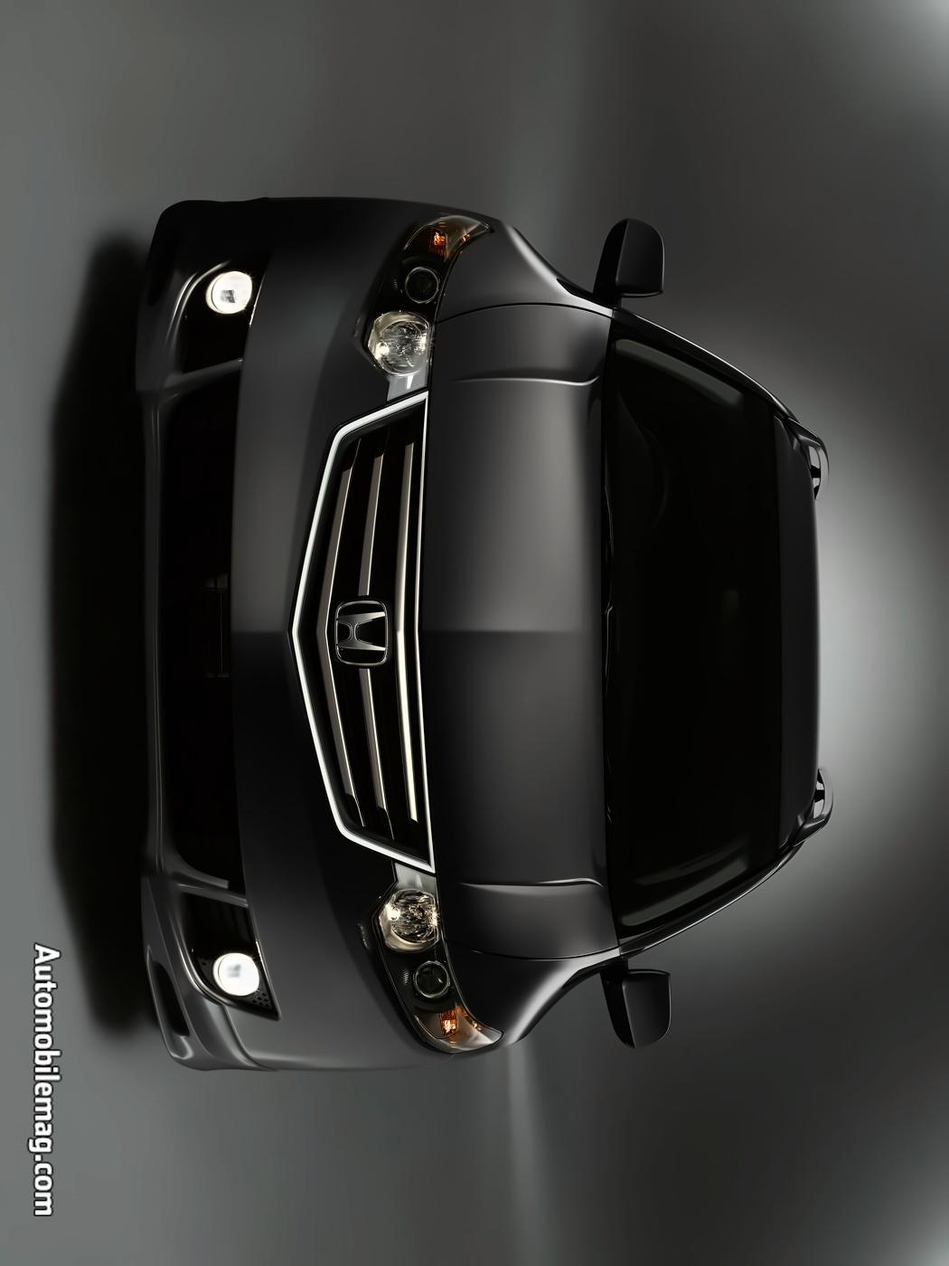Car hood: (415, 221, 632, 1059)
Front bumper: (121, 185, 379, 1085)
Headlight - -L-: (347, 847, 514, 1062)
Headlight - -R-: (344, 201, 504, 418)
Side mirror - -L-: (593, 946, 680, 1064)
Side mirror - -R-: (586, 201, 676, 320)
